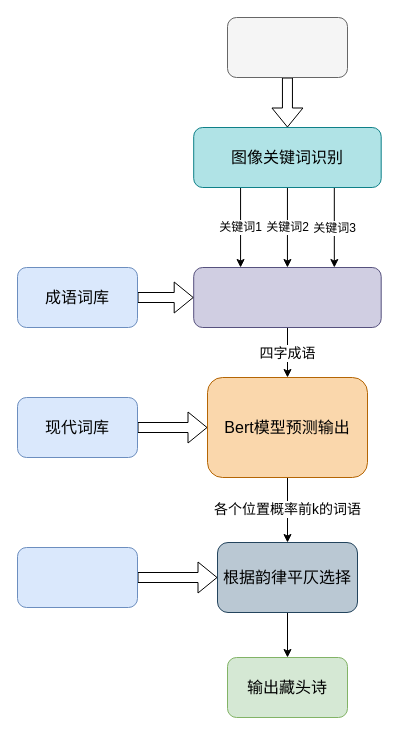
Image size: 399x735. Some labels were removed from this diagram. Each missing label, with the centre of its shape:
成语映射: [287,297]
输入图片: [287,47]
韵律平仄规则: [77,577]
